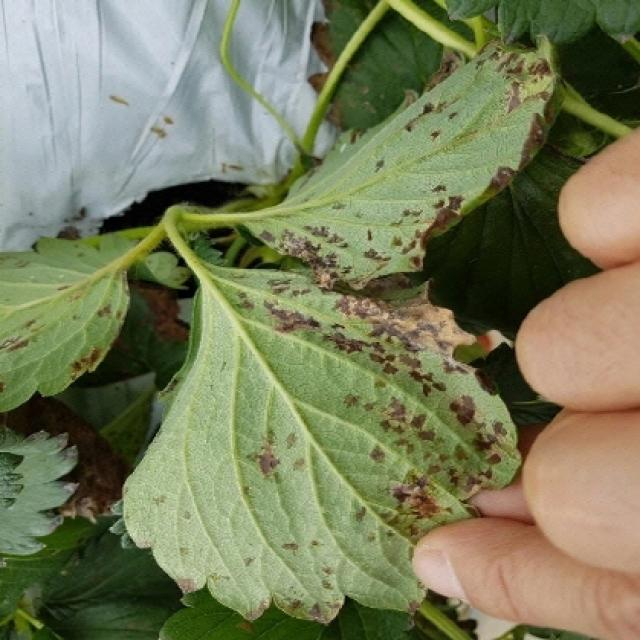Angular Leafspot: (121, 262, 525, 626), (234, 35, 569, 290), (0, 229, 154, 411)
